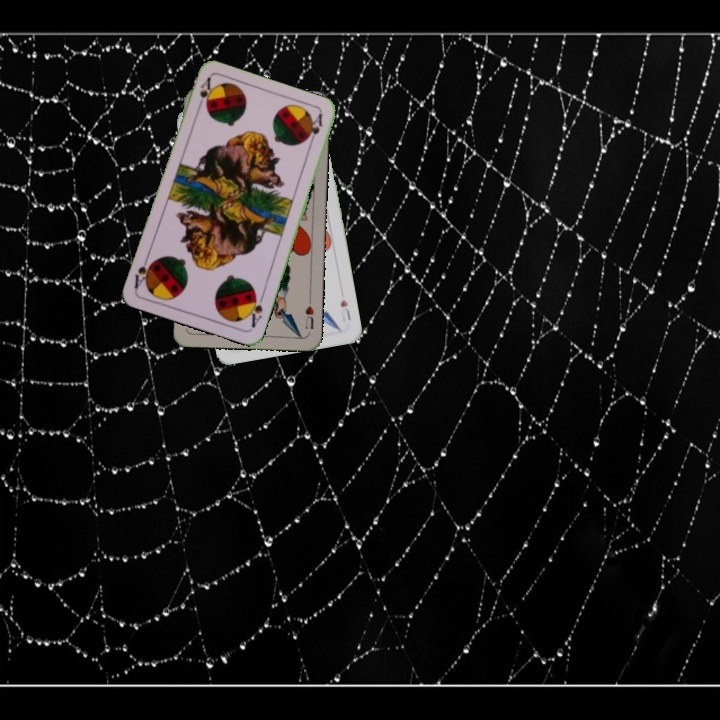HU: (301, 294, 317, 332), (336, 294, 353, 323)
SA: (244, 289, 266, 330), (193, 74, 214, 113)
